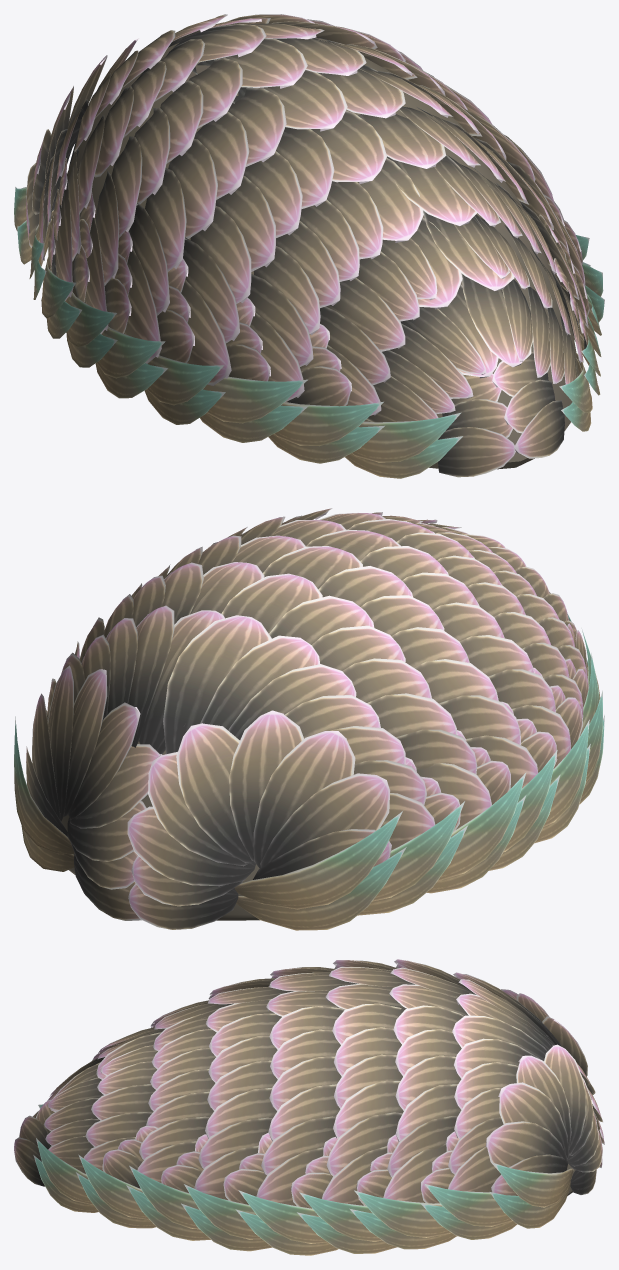
3 renders of one model, top to bottom at view 1: azimuth 30°, elevation 25°; view 2: azimuth 150°, elevation 25°; view 3: azimuth 270°, elevation 25°, orthographic. The views are drawn at different scales.
Visible parts, largest first — view 1: Object_2; view 2: Object_2; view 3: Object_2.
Boxes of the visible parts, left/top/right/bottom form: Object_2: left=14, top=14, right=604, bottom=478; Object_2: left=14, top=508, right=604, bottom=930; Object_2: left=14, top=959, right=604, bottom=1255.
Bounding box in the file's own units: 2.67 × 1.46 × 3.98.
Materials: 1 (1 with a texture image).
